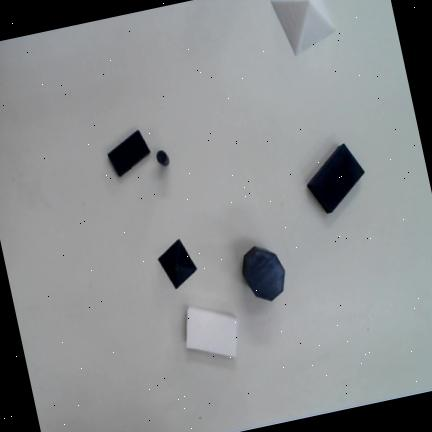Cilindro: (157, 150, 170, 166)
Paralelepipedo: (306, 142, 365, 215), (187, 306, 238, 356), (107, 129, 150, 178)
Piramide: (272, 0, 335, 54), (158, 239, 197, 289)
Prisma_hexagonal: (242, 246, 285, 301)
